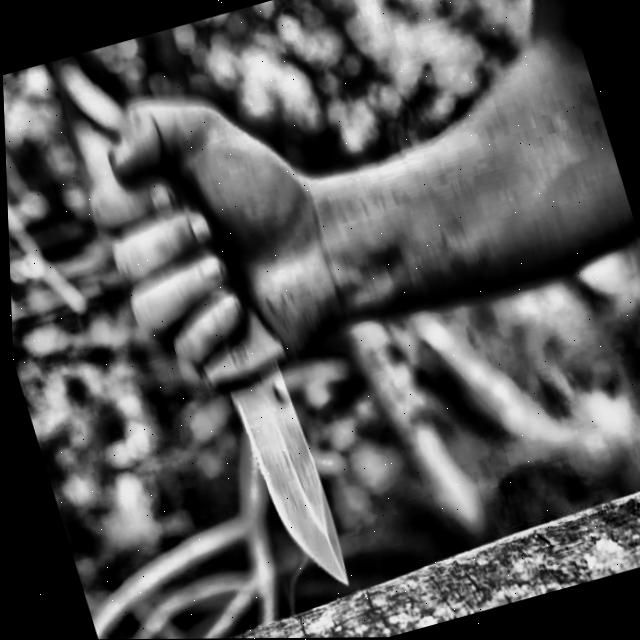pisau: (93, 66, 374, 616)
